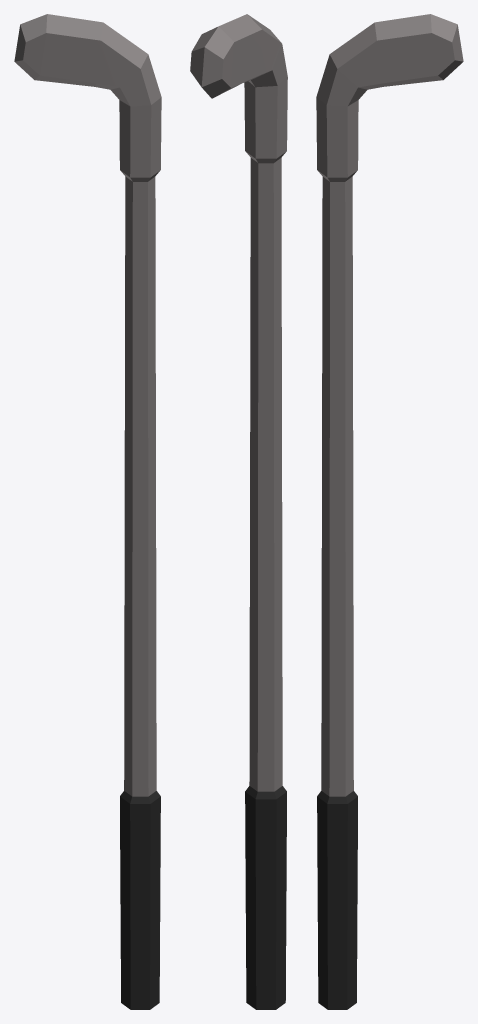
The model's file is golf-club-iron.glb.
3 renders of one model, left to right at view 1: azimuth 90°, elevation 25°; view 2: azimuth 150°, elevation 25°; view 3: azimuth 270°, elevation 25°, orthographic. The views are drawn at different scales.
Visible parts, largest first — view 1: golf-club-iron; view 2: golf-club-iron; view 3: golf-club-iron.
Boxes of the visible parts, x1,y1,x2,y2 form: golf-club-iron: [14, 14, 161, 1009]; golf-club-iron: [190, 14, 287, 1009]; golf-club-iron: [316, 14, 463, 1009].
Size of the model in its own units: 0.0371 by 1.06 by 0.1435.
Materials: 1 (1 with a texture image).
